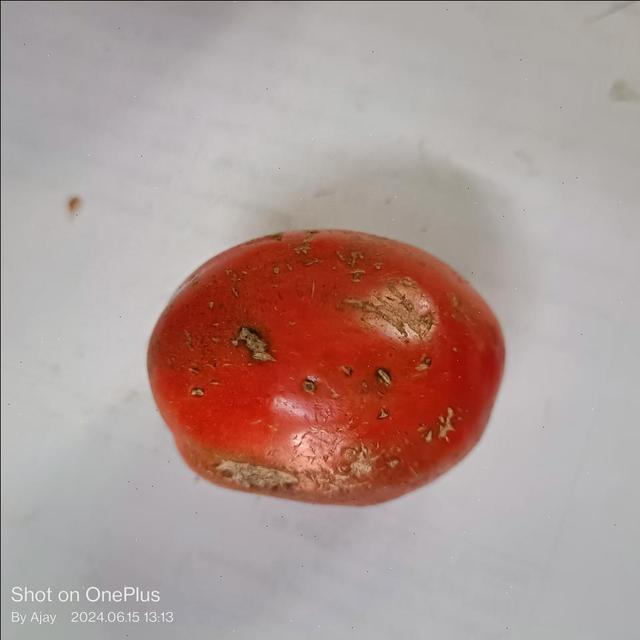Bacterial Spot Fruit: (17, 20, 263, 318)
